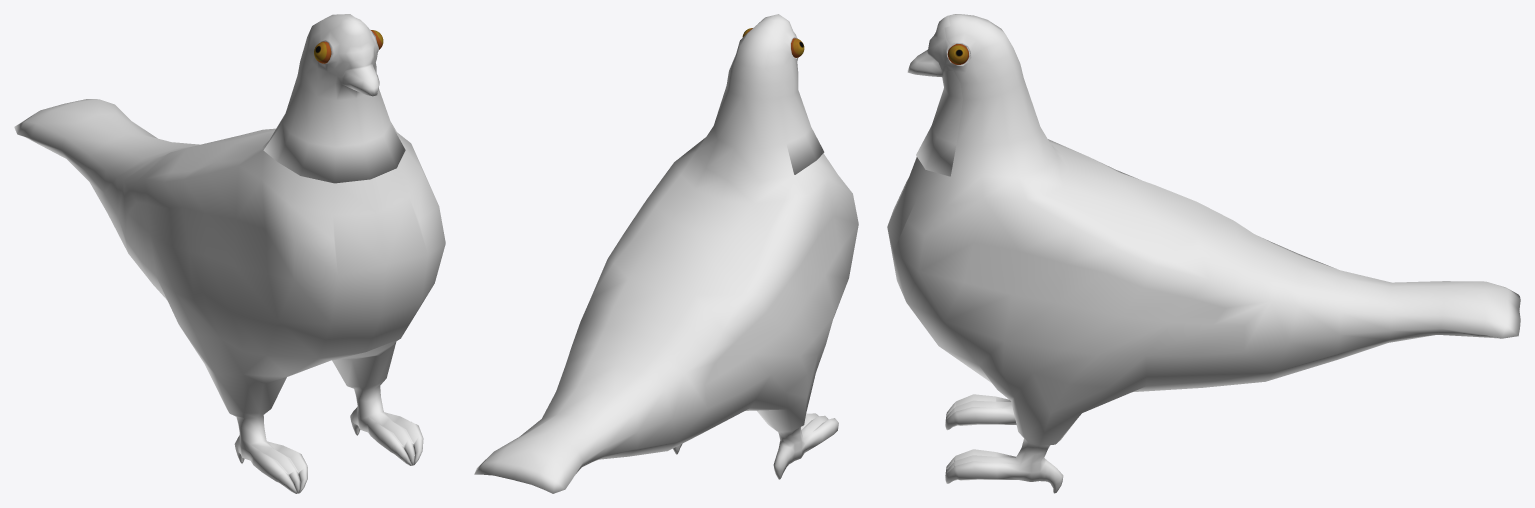
The model's file is normal and head parent.fbx.
The picture shows the model from 3 angles, left to right: view 1: azimuth 30°, elevation 25°; view 2: azimuth 150°, elevation 25°; view 3: azimuth 270°, elevation 25°; orthographic projection. The views are drawn at different scales.
Visible parts, largest first — view 1: pigeon LOW POLY wings apart, pigeon head.; view 2: pigeon LOW POLY wings apart, pigeon head.; view 3: pigeon LOW POLY wings apart, pigeon head..
Part boxes in pixels (<box>): pigeon LOW POLY wings apart: <box>14,14,445,493</box>; pigeon head.: <box>263,17,405,183</box>; pigeon LOW POLY wings apart: <box>474,14,858,493</box>; pigeon head.: <box>765,14,824,174</box>; pigeon LOW POLY wings apart: <box>887,14,1520,493</box>; pigeon head.: <box>907,14,973,176</box>.
Bounding box in the file's own units: 45.21 × 126 × 98.96.
